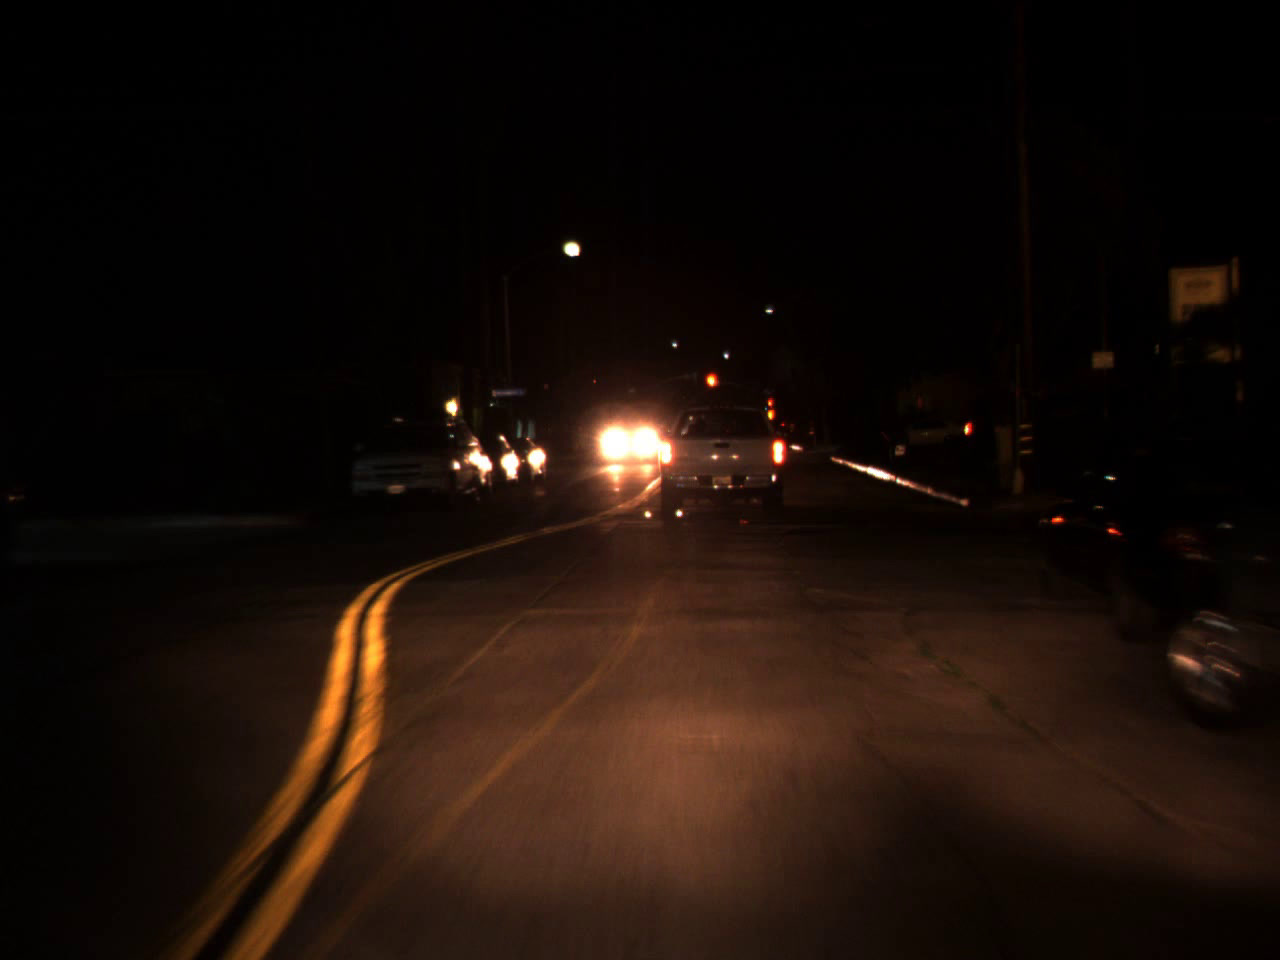stop: (704, 371, 719, 403), (767, 398, 773, 414)
